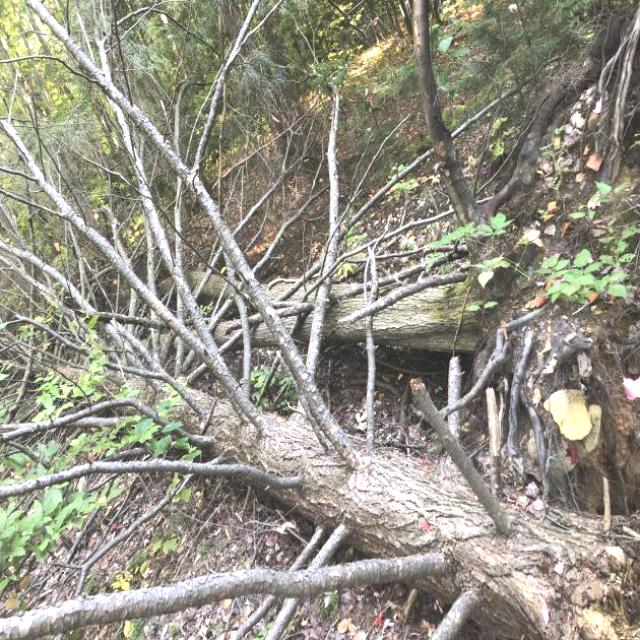fallen_object: (60, 349, 632, 640), (142, 215, 538, 372)
